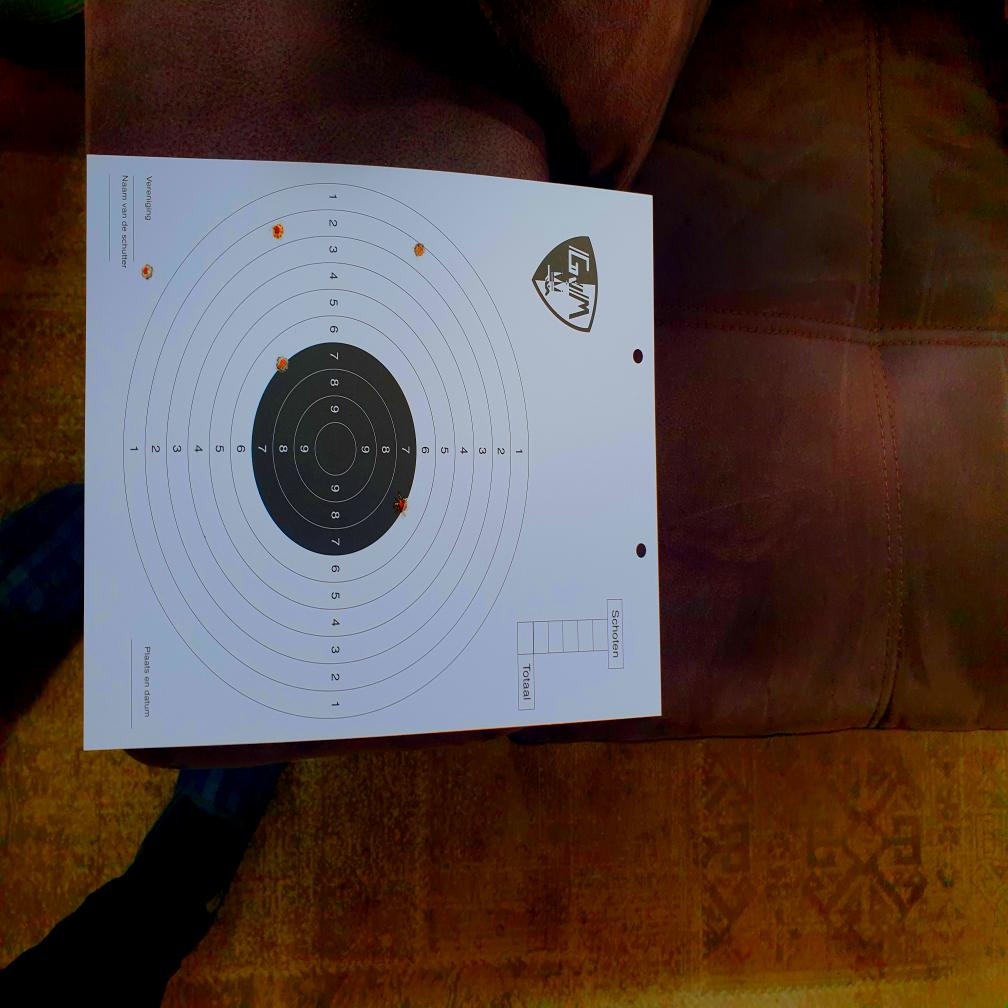0: (142, 264, 154, 281)
2: (271, 224, 285, 240), (414, 242, 425, 258)
7: (394, 492, 409, 517), (275, 355, 289, 373)
Target: (123, 183, 530, 720)
black_contour: (252, 344, 417, 556)
